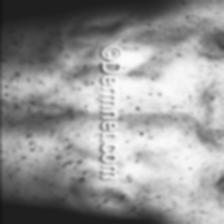Non-Cancerous Skin Condition: (0, 61, 96, 180)
